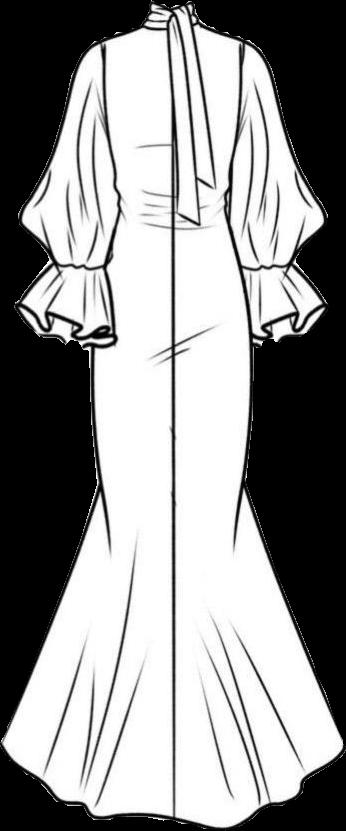Bodice: (103, 0, 243, 222)
Hemline: (0, 738, 345, 830)
Neckline: (149, 0, 197, 14)
Skirt: (1, 217, 343, 827)
Sleeve: (14, 40, 118, 351), (227, 40, 328, 343)
Sleeveline: (236, 39, 252, 123), (95, 40, 109, 129), (47, 257, 113, 275), (236, 257, 299, 275)
